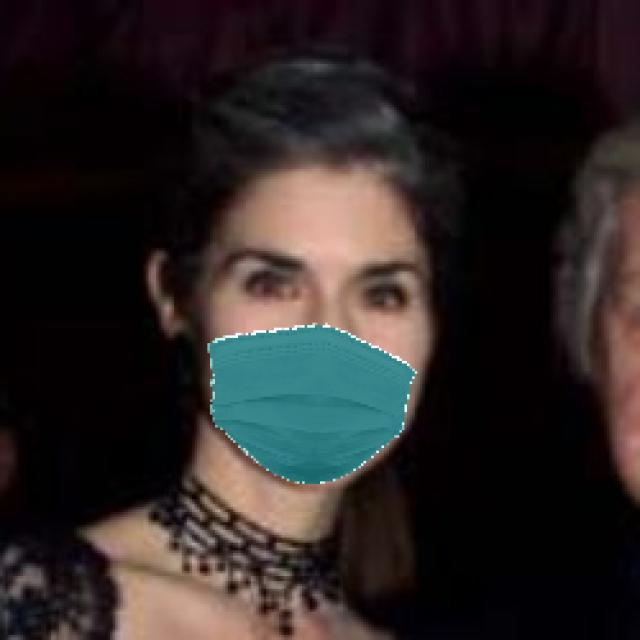mask: (189, 322, 424, 510)
